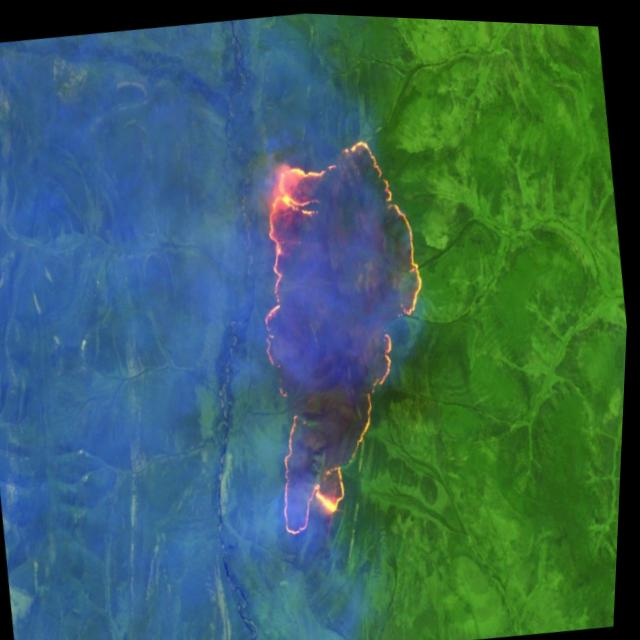fire: (230, 120, 465, 543)
